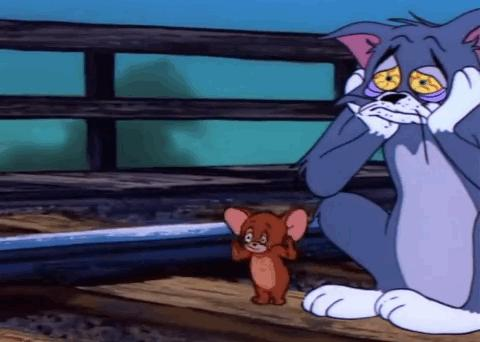jerry: (221, 205, 309, 307)
